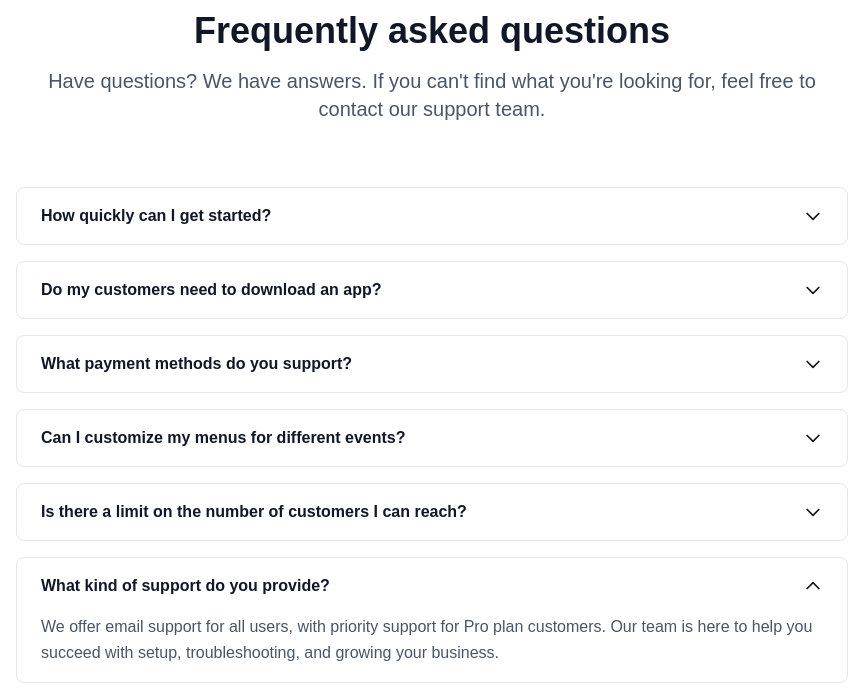
Test: FAQ › shows correct customer limits for Starter and Pro plans
Click the button "Is there a limit on the number of customers I can reach?": (432, 512) left=17, top=484, right=847, bottom=540
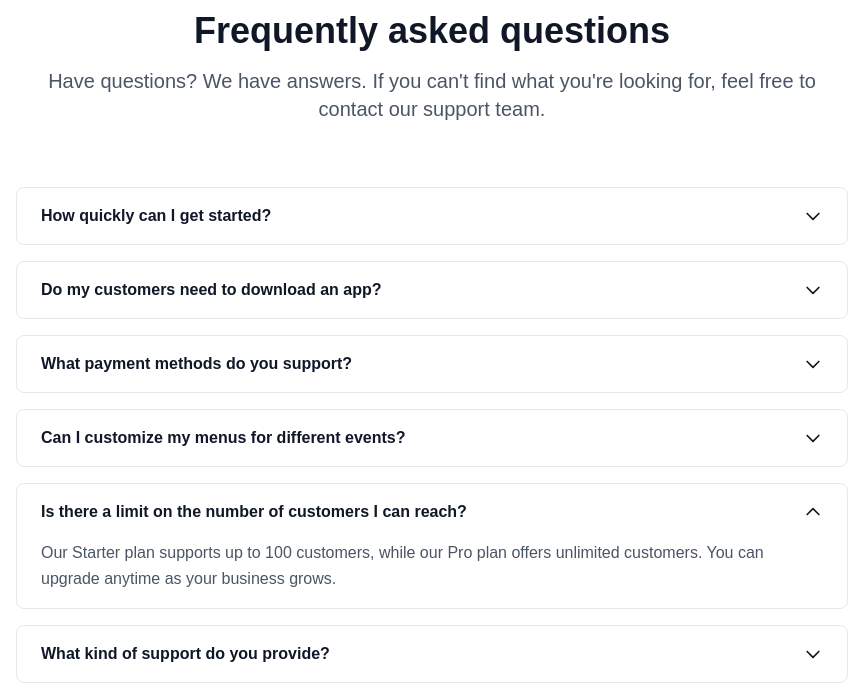
Expected: the text "Pro plan offers unlimited customers" is shown, left=41, top=544, right=764, bottom=587
